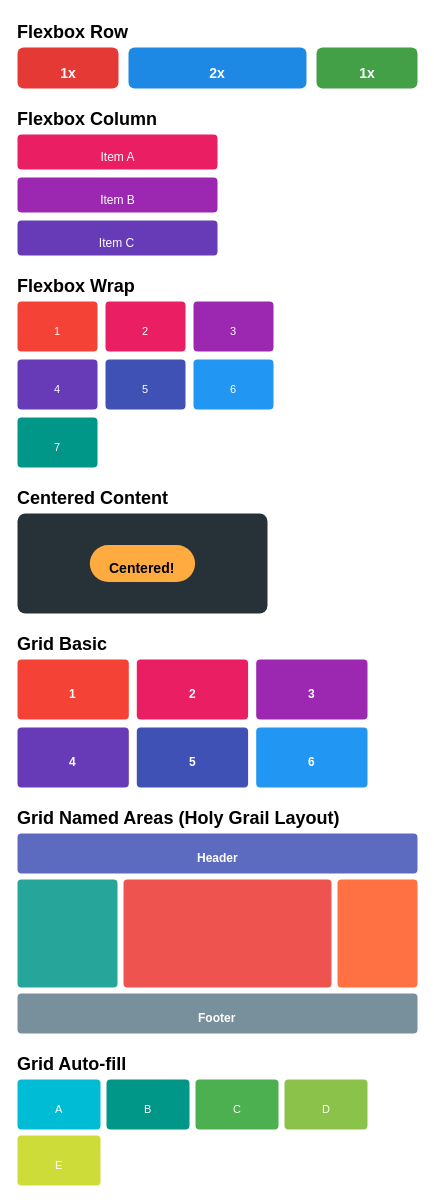
Some shapes in this 434 by 1203 pixel diagram are drawn without their labels. Each missing label, with the centre of its shape:
"Aside" goes at (377,933).
"Main Content" goes at (227,933).
"Side" goes at (67,933).
